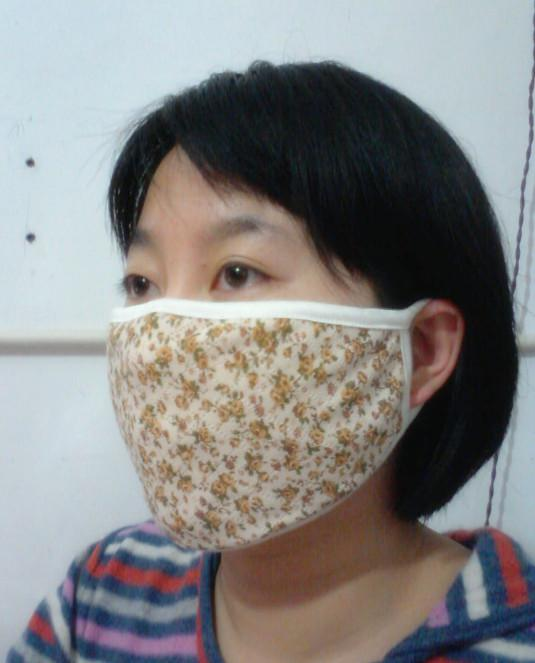OK: (94, 202, 431, 539)
